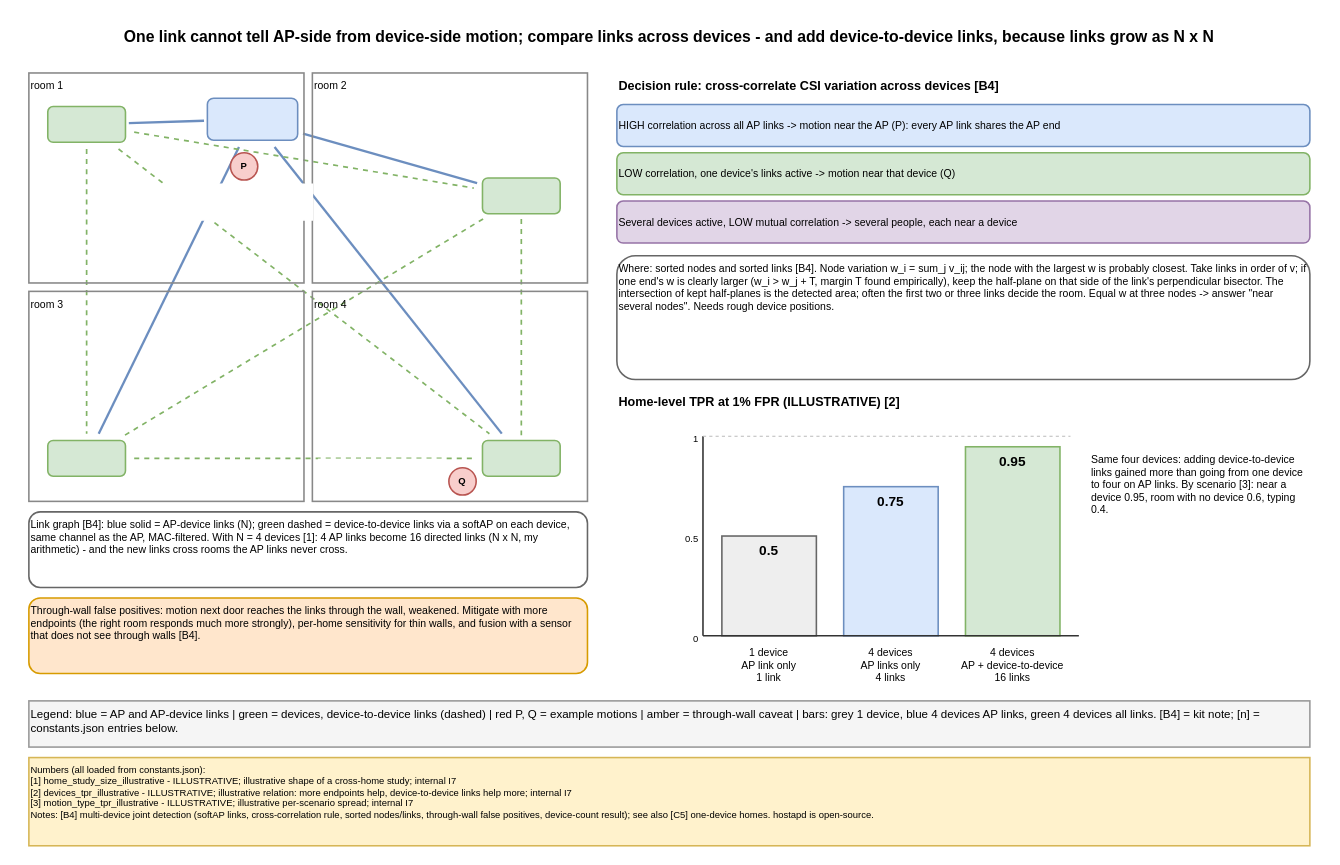
Some shapes in this 1340 by 865 pixel diagram are drawn without their labels. Here are the shapes that lost their labels. From the top down, the centre of each, then its label:
At point (86, 124): "device 1".
At point (252, 118): "AP".
At point (233, 201): "motion near the AP: all AP links move together".
At point (520, 195): "device 2".
At point (86, 457): "device 3".
At point (381, 476): "motion near device 4: only its links move".
At point (520, 457): "device 4".
